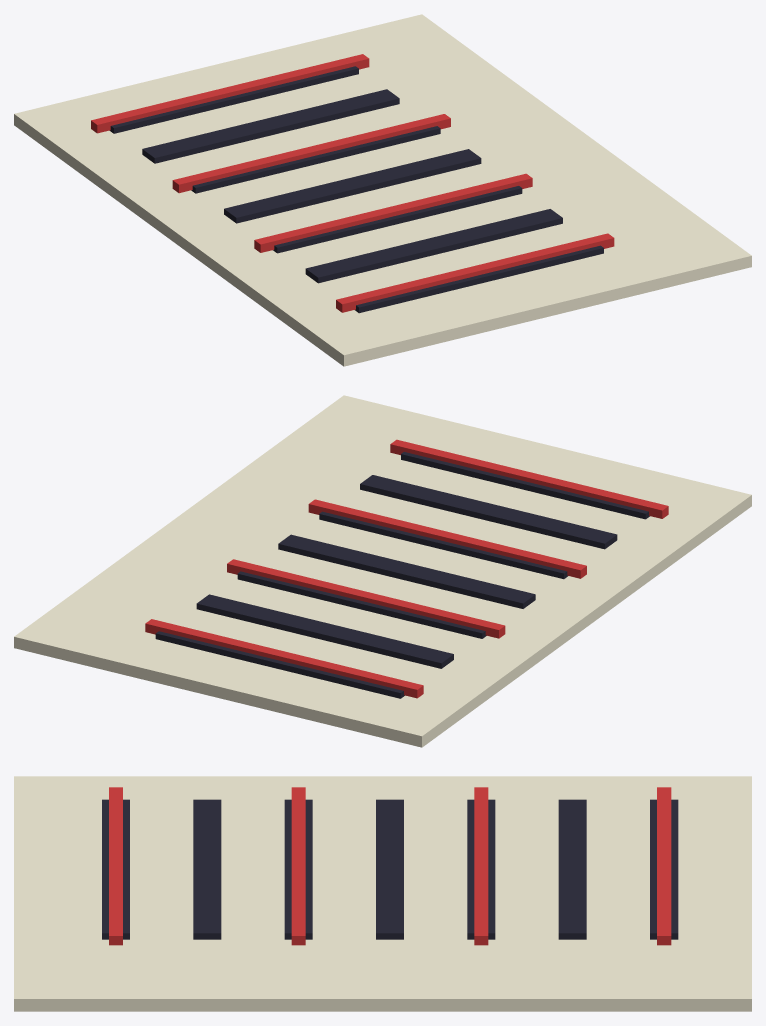
File: victim_list.glb
3 views of the same model, one above another, from view 1: azimuth 30°, elevation 25°; view 2: azimuth 150°, elevation 25°; view 3: azimuth 270°, elevation 25° (orthographic). The views are drawn at different scales.
Visible parts, largest first — view 1: paper_list_paper, ink_list_ink (×7), ink_list_cross (×4); view 2: paper_list_paper, ink_list_ink (×7), ink_list_cross (×4); view 3: paper_list_paper, ink_list_ink (×7), ink_list_cross (×4).
Boxes of the visible parts, x1,y1,x2,y2 form: paper_list_paper: (14, 14, 751, 366); ink_list_ink (×7): (109, 66, 603, 313); ink_list_cross (×4): (91, 54, 614, 312); paper_list_paper: (14, 395, 751, 747); ink_list_ink (×7): (155, 452, 649, 698); ink_list_cross (×4): (145, 439, 668, 698); paper_list_paper: (14, 776, 751, 1011); ink_list_ink (×7): (102, 799, 678, 939); ink_list_cross (×4): (109, 787, 671, 945).
Size of the model in its own units: 0.15 by 0.0075 by 0.21.
